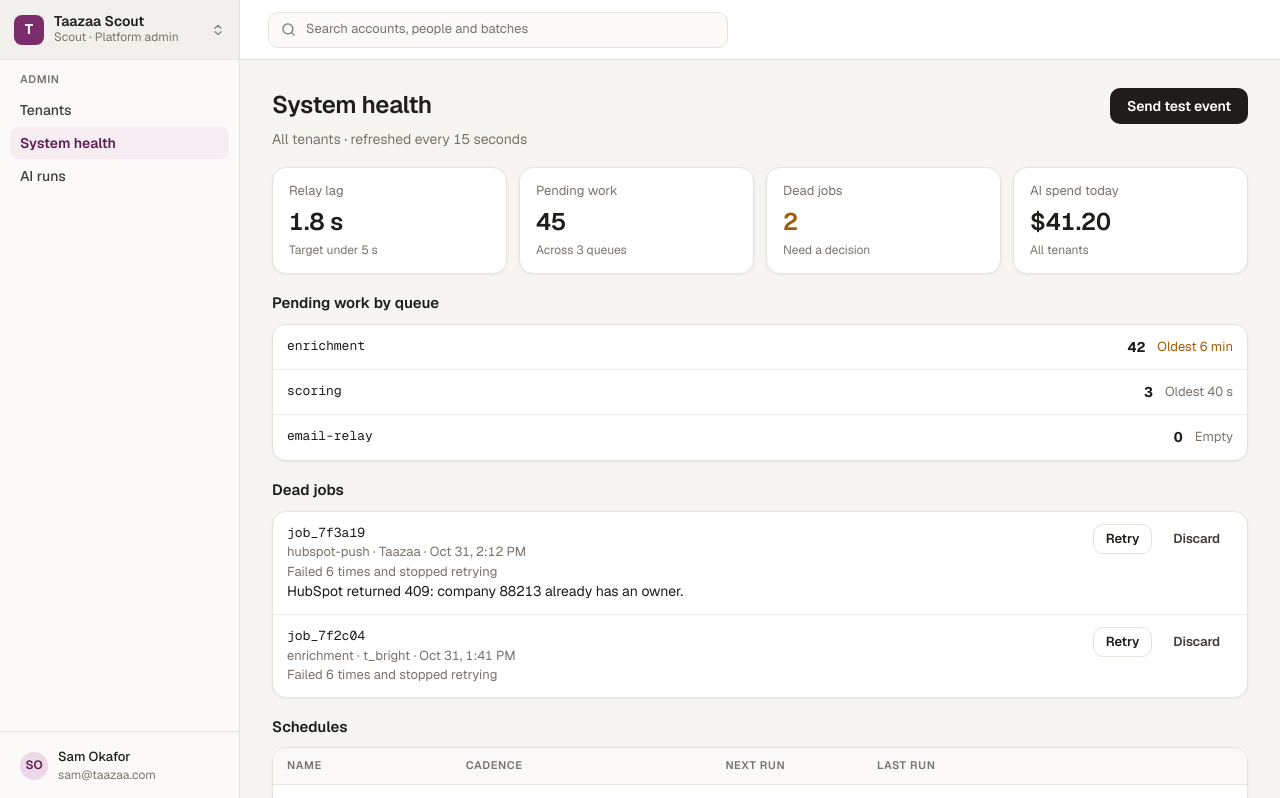
dead jobs › discards a job after the confirm, and shows the failure
Click the button with aria-label "Discard job_7f2c04": click(1197, 642) [1160, 627, 1233, 657]
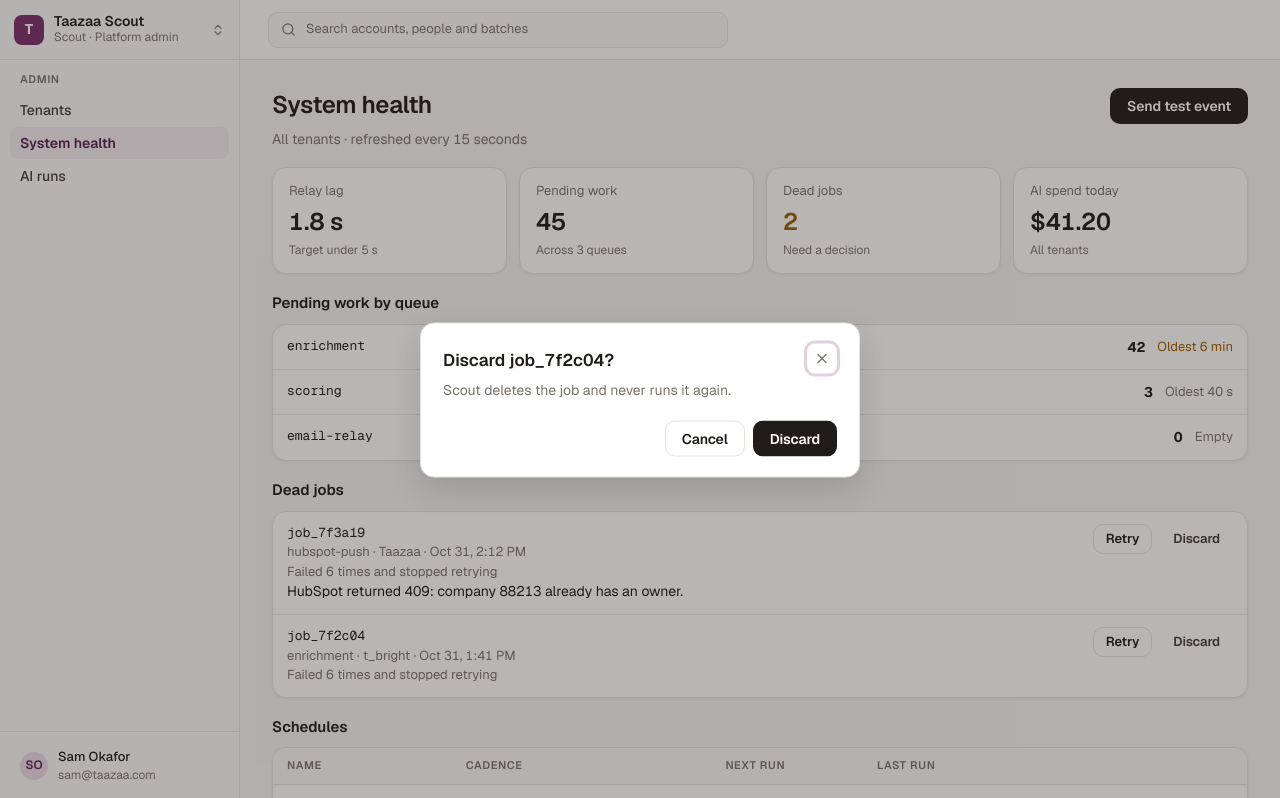
Result: the dialog "Discard job_7f2c04?" shows "Scout deletes the job and never runs it again." at [443, 380, 731, 398]
Click the button "Discard": click(795, 438) [753, 420, 837, 456]
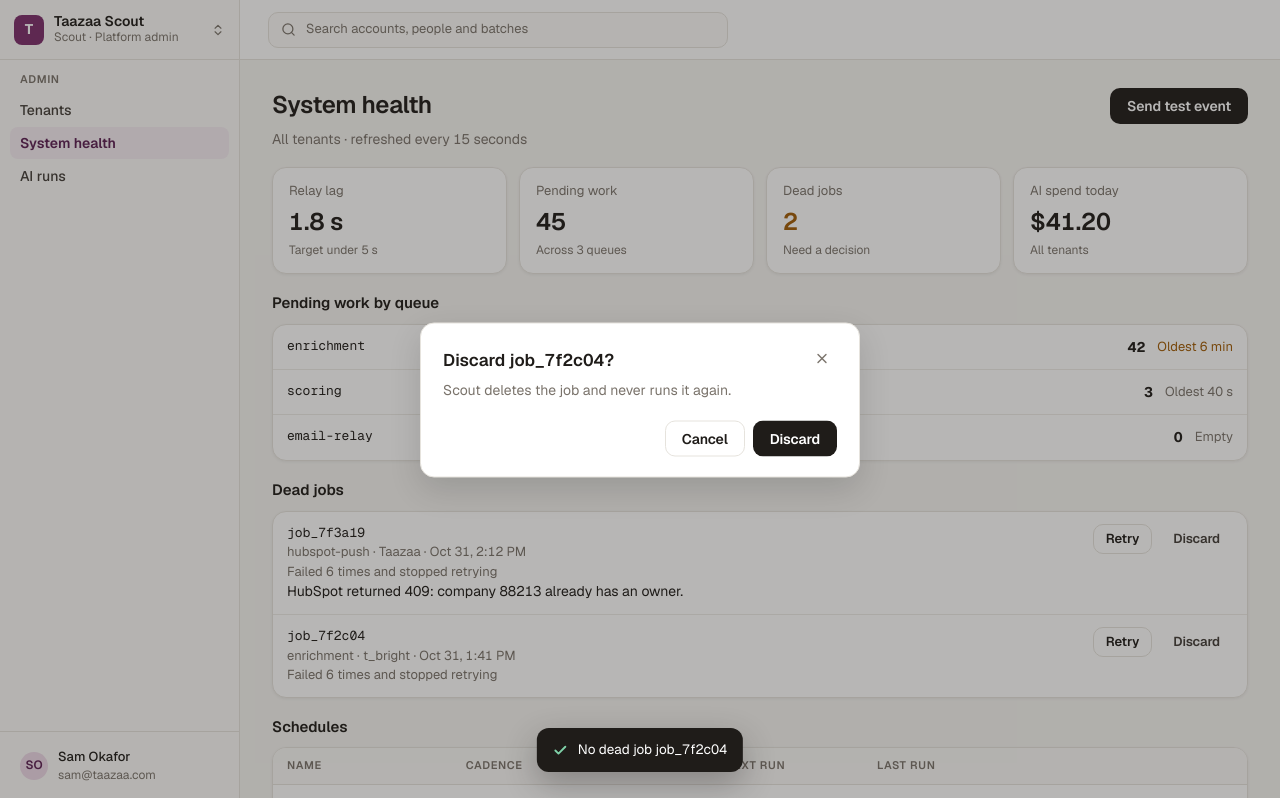
Result: the text "No dead job job_7f2c04" is shown at [578, 740, 727, 760]
Click the button "Discard": click(795, 438) [753, 420, 837, 456]
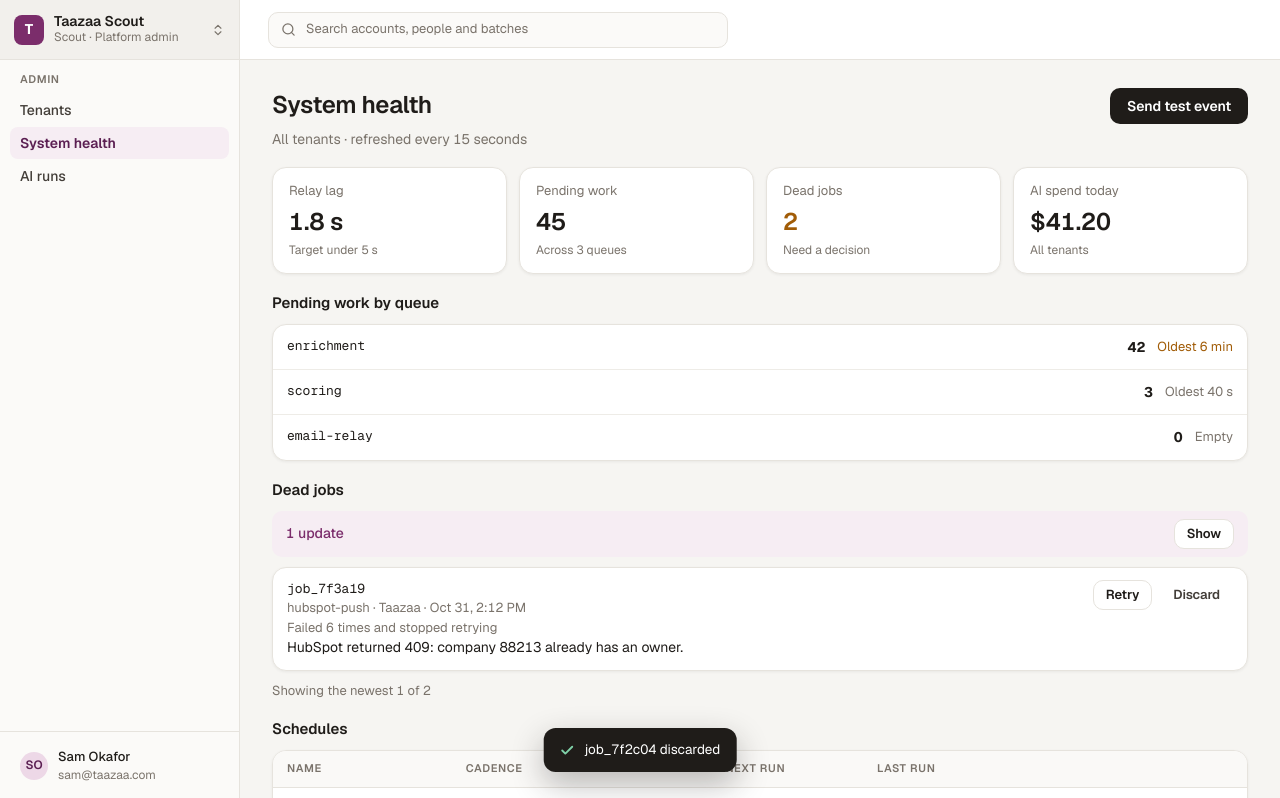
Result: the text "job_7f2c04 discarded" is shown at [585, 740, 720, 760]
Result: the dialog is gone
